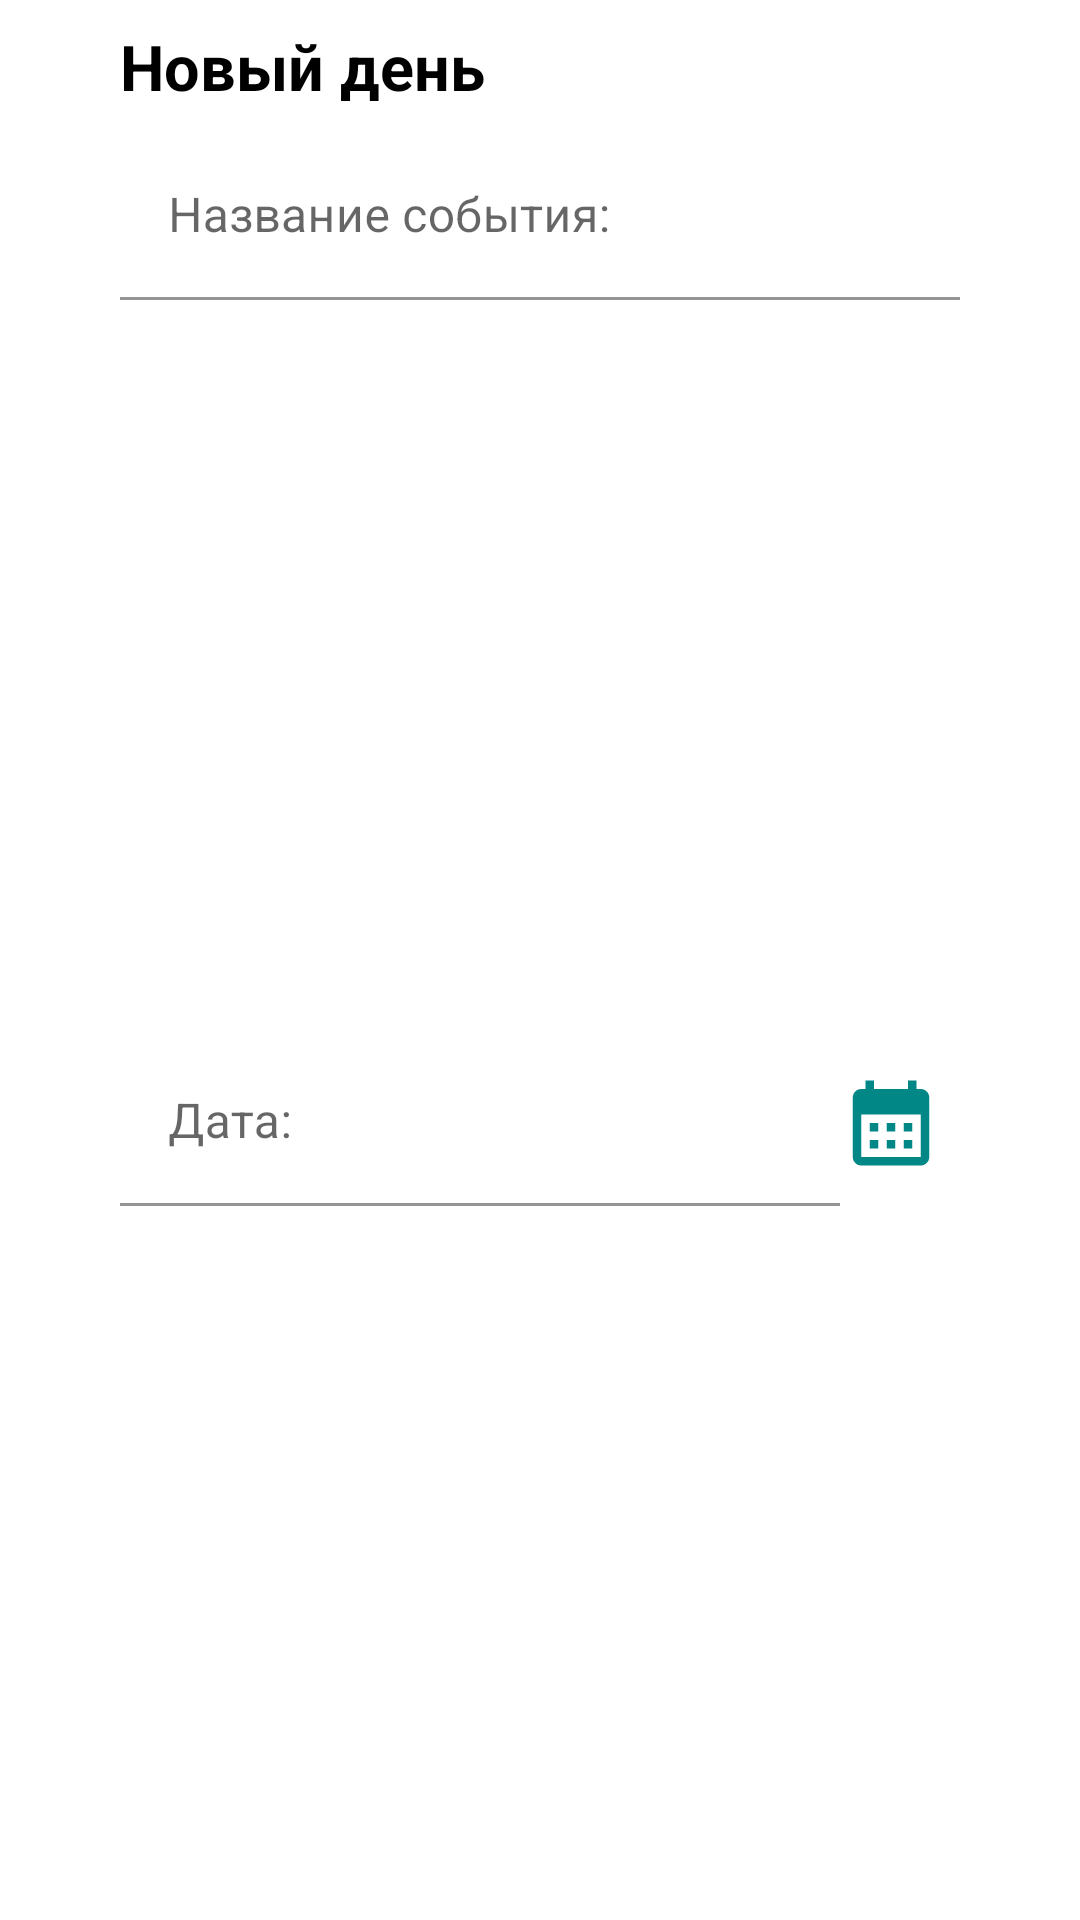

Icon click points for this 1080px x 1920px phone screenshot, format point (x, y):
calendar month: point (891, 1123)
